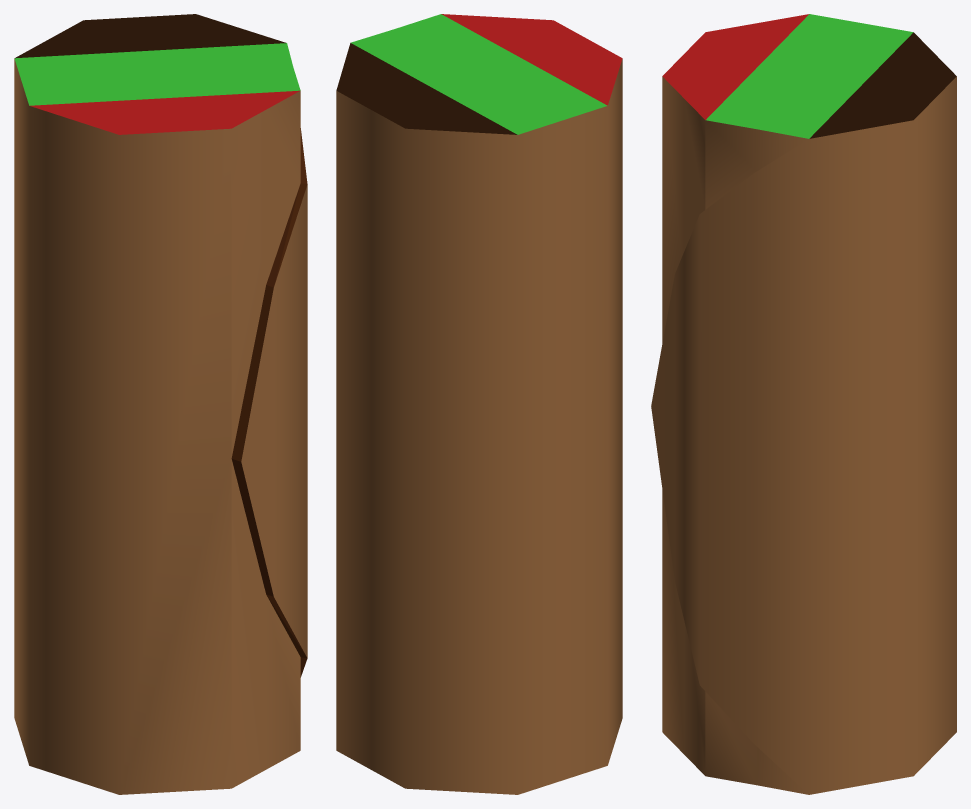
The model's file is kebabTodo.fbx.
3 renders of one model, left to right at view 1: azimuth 30°, elevation 25°; view 2: azimuth 150°, elevation 25°; view 3: azimuth 270°, elevation 25°, orthographic.
Parts seen in each view (by area): view 1: Cylinder002; view 2: Cylinder002; view 3: Cylinder002.
Part boxes in pixels (x1,y1,x2,y2): Cylinder002: (14,14,307,794); Cylinder002: (336,14,622,794); Cylinder002: (651,14,956,794).
Size of the model in its own units: 0.2447 by 0.599 by 0.253.
